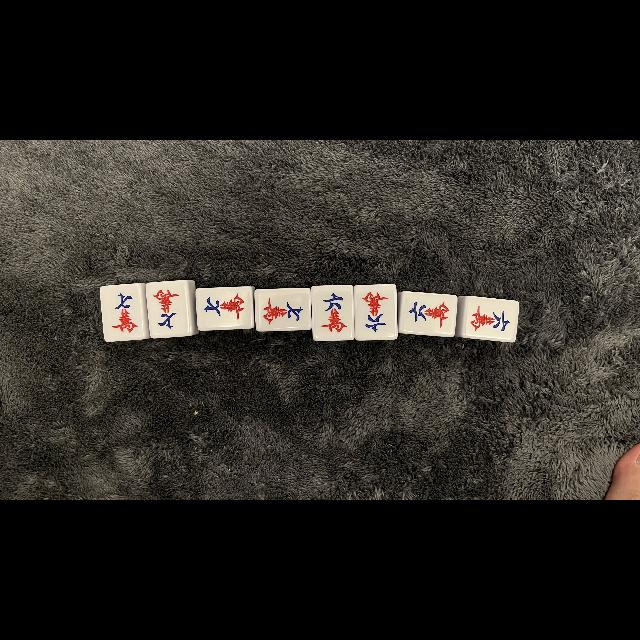c6: (400, 294, 456, 334), (314, 286, 354, 340), (464, 298, 516, 339), (356, 286, 394, 340)
c7: (103, 285, 145, 339), (148, 282, 188, 336), (197, 288, 251, 328), (256, 290, 310, 330)
